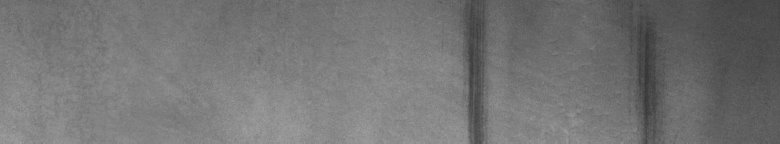hd: (457, 4, 488, 136)
